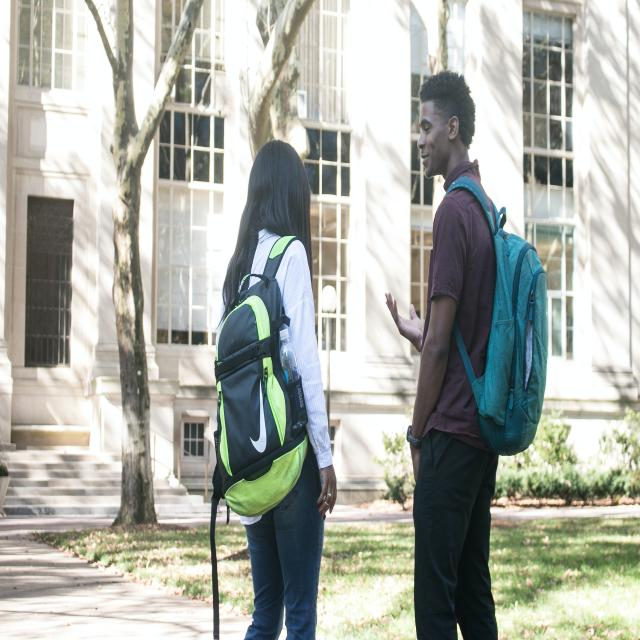backpack: (438, 178, 547, 458), (214, 233, 312, 526)
